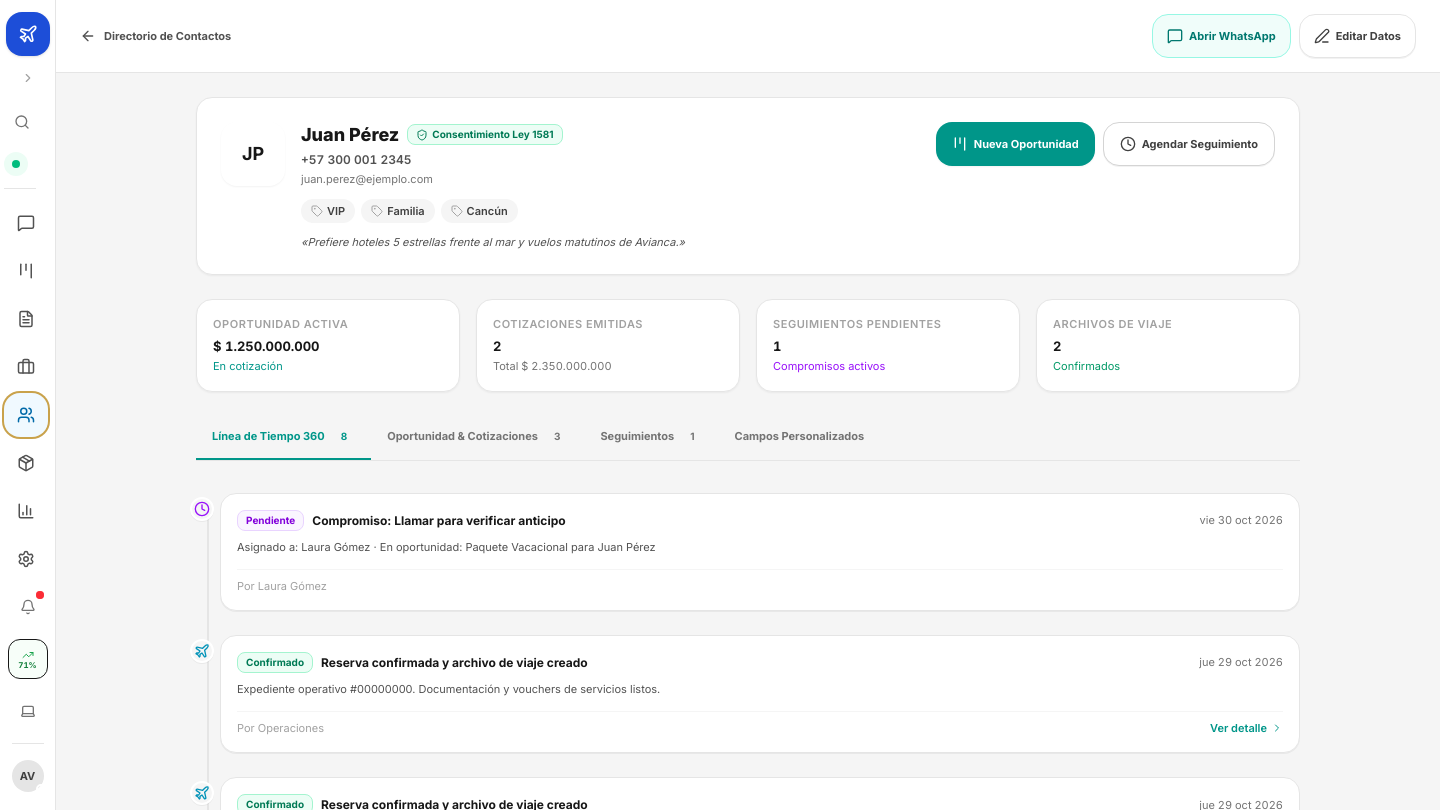
Test: Contacto360Page (T-100) — Pantalla Ficha 360 del Contacto › 3. Muestra la línea de tiempo 360 y permite alternar a pestañas de oportunidades y seguimientos
expect the text "Línea de Tiempo 360" is shown: met, box [212,429,325,444]
Cambiar a pestaña Oportunidad & Cotizaciones
Click the button "Oportunidad & Cotizaciones 3" at (478, 438), box [371,416,584,460]
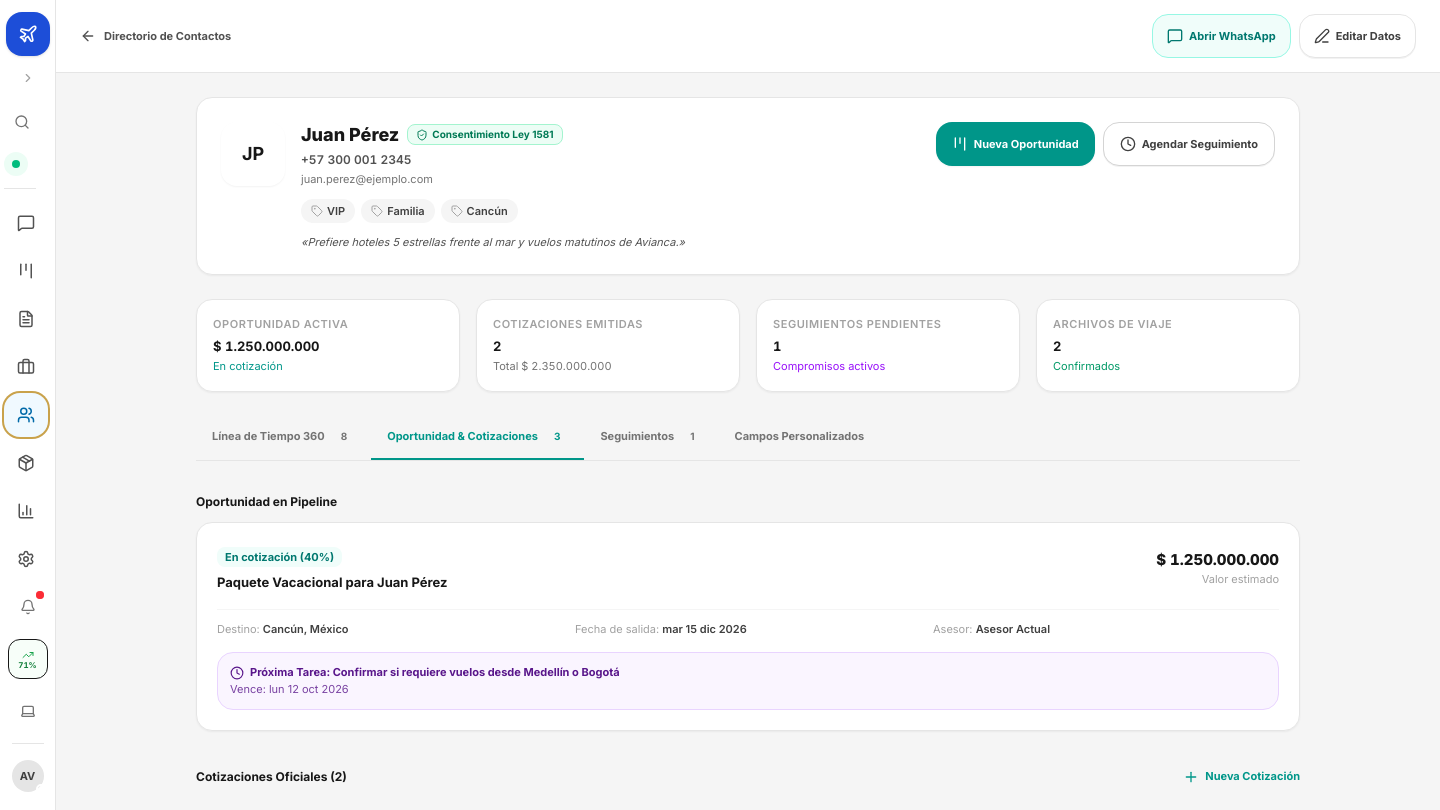
expect the heading "Oportunidad en Pipeline" is shown: met, box [196,493,337,510]
expect the heading "Cotizaciones Oficiales (2)" is shown: met, box [196,768,347,785]
Cambiar a pestaña Seguimientos
Click the button "Seguimientos 1" at (651, 438), box [584,416,718,460]
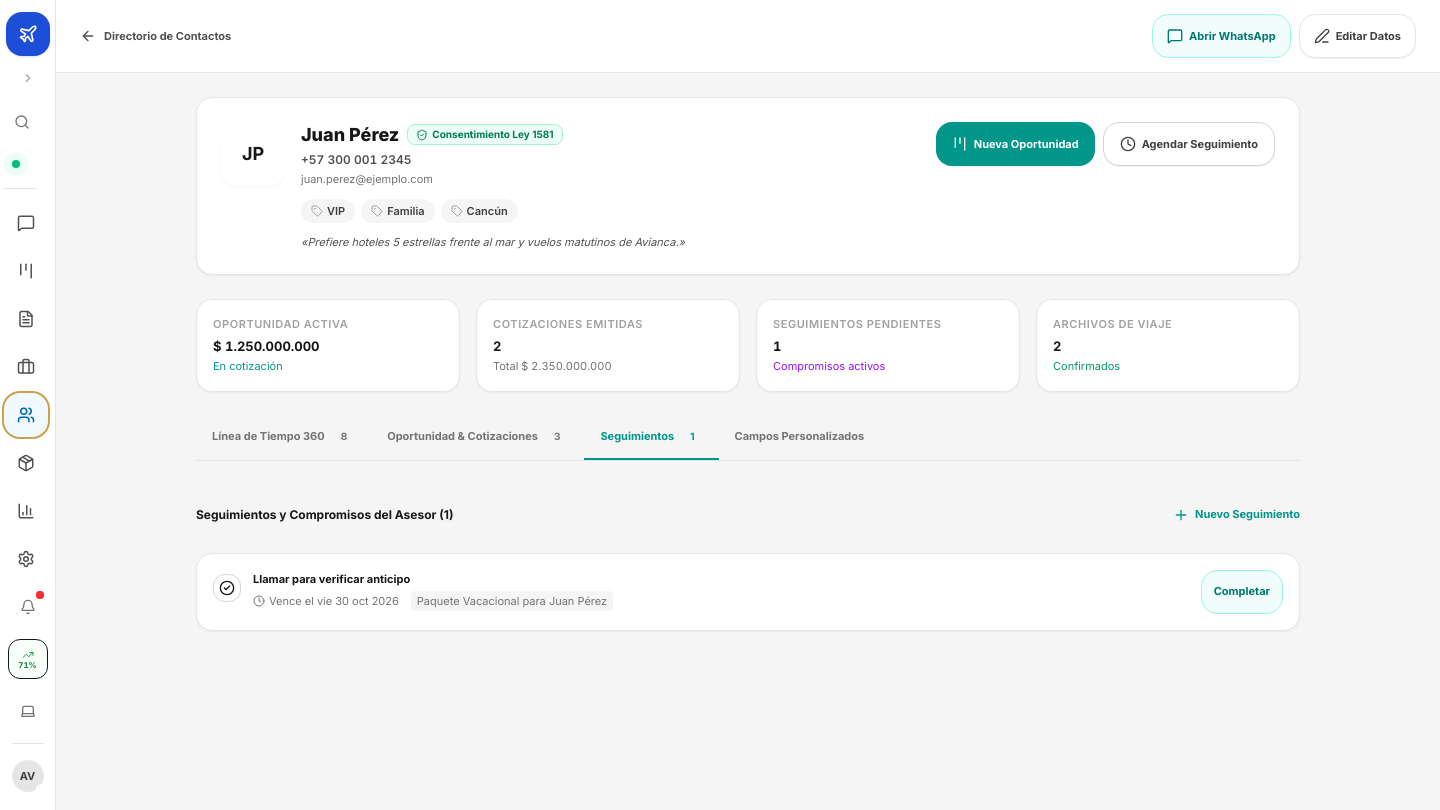
expect the text "Llamar para verificar anticipo" is shown: met, box [253,572,410,586]
expect the button "Completar" is shown: met, box [1201,570,1283,614]
